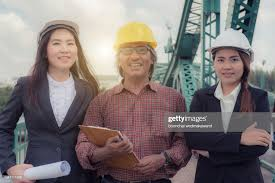Person_wearing_helmet: (110, 20, 158, 58)
